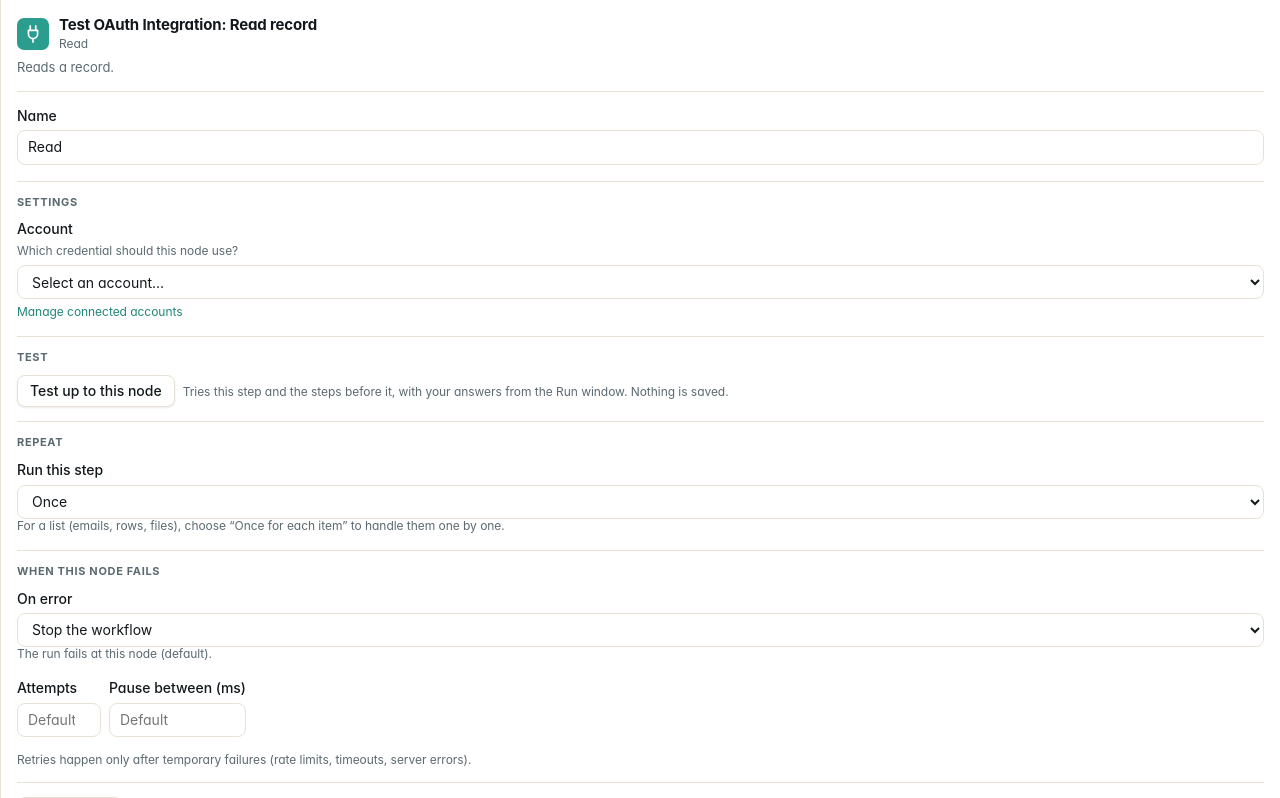
Test: account selection on OAuth nodes › warns when the selected account needs reconnecting
The width and height of the screenshot is (1280, 798).
Select "Fake OAuth — ada@example.test (expired: reconnect)" in the dropdown labelled "Account" at (640, 282), box left=17, top=265, right=1264, bottom=299
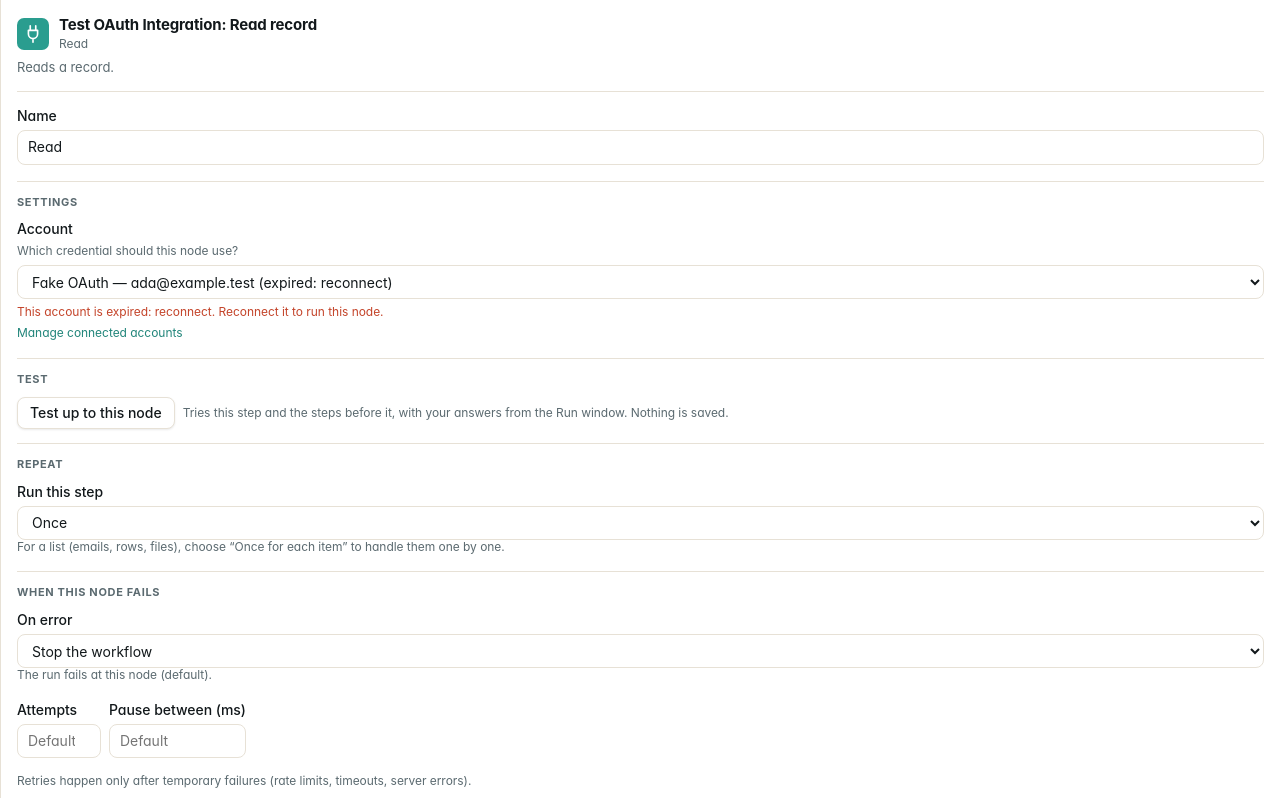
Result: the message shows "Reconnect it to run this node" at left=212, top=304, right=384, bottom=319
